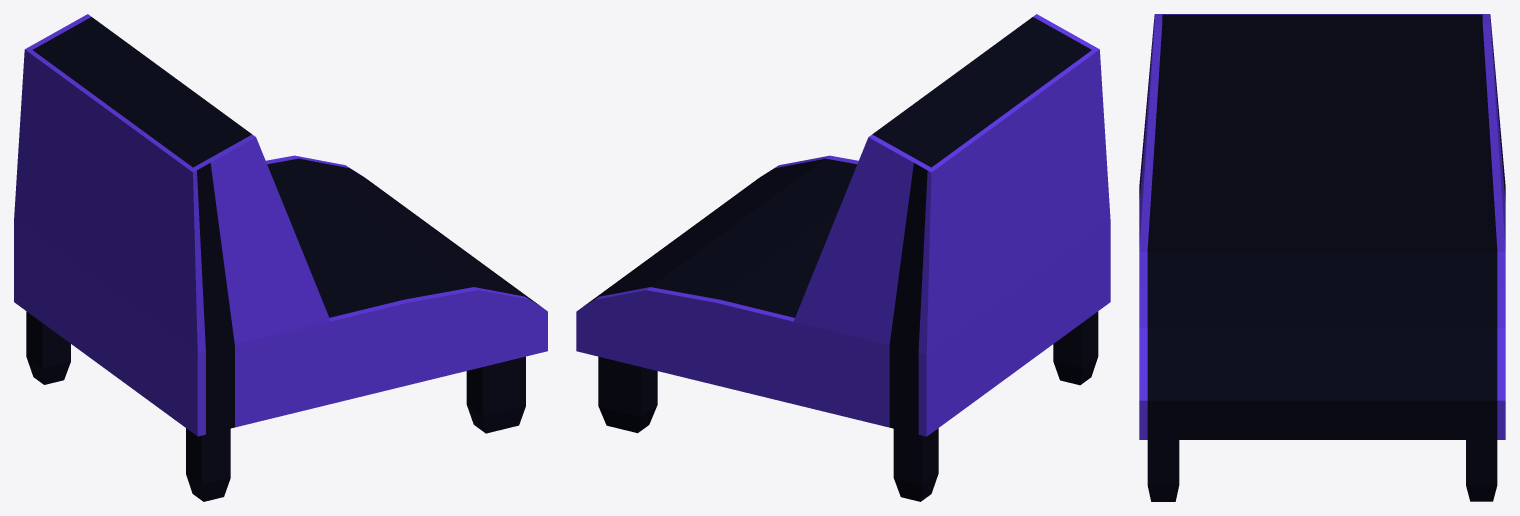
Rendered from Interior_Recliner_Purple.fbx.
3 views of the same model, side by side, from view 1: azimuth 30°, elevation 25°; view 2: azimuth 150°, elevation 25°; view 3: azimuth 270°, elevation 25° (orthographic).
Visible parts, largest first — view 1: Cube.304; view 2: Cube.304; view 3: Cube.304.
Part boxes in pixels (x1=…): Cube.304: x1=14, y1=14, x2=547, y2=501; Cube.304: x1=576, y1=14, x2=1110, y2=501; Cube.304: x1=1139, y1=14, x2=1505, y2=501.
Bounding box in the file's own units: 90.68 × 86.82 × 82.41.
